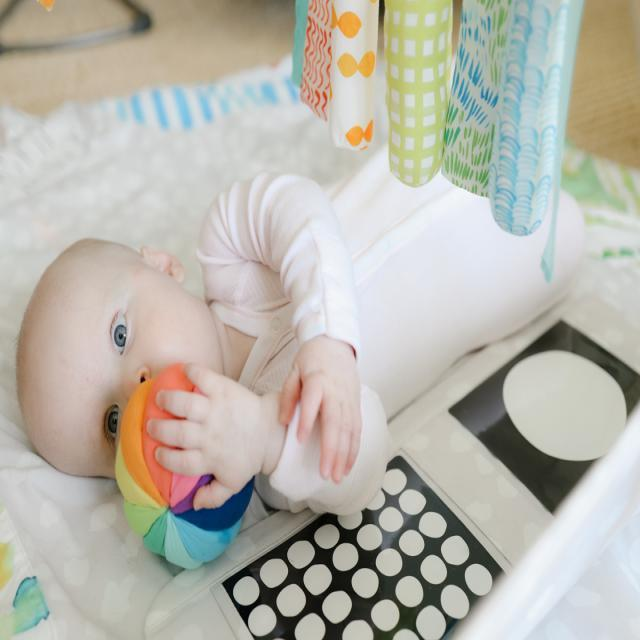soft-toy: (115, 366, 252, 568)
